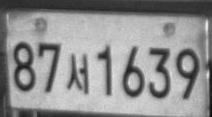1: (94, 44, 119, 96)
3: (147, 46, 172, 99)
6: (121, 44, 146, 98)
7: (37, 42, 62, 92)
8: (11, 40, 36, 92)
9: (174, 47, 201, 100)
서: (65, 53, 89, 95)
